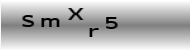5: (104, 16, 118, 29)
S: (20, 13, 34, 27)
X: (66, 7, 84, 21)
m: (39, 17, 60, 28)
r: (88, 27, 99, 37)
